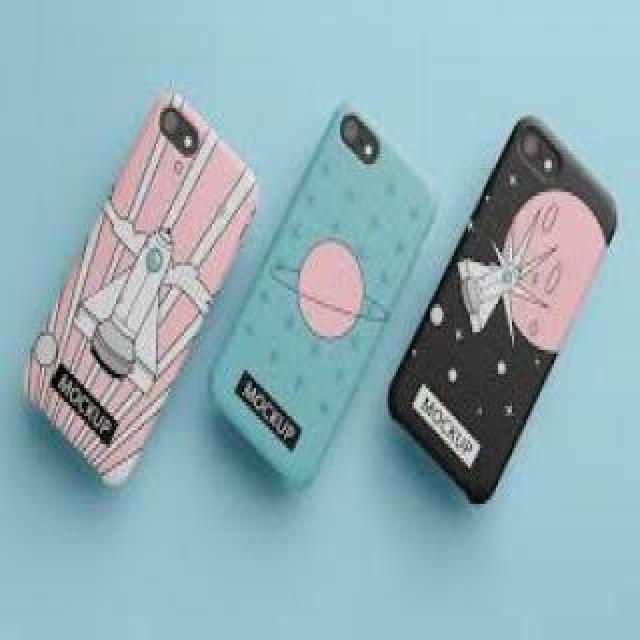smart phone: (23, 55, 220, 503), (255, 102, 435, 515), (425, 98, 597, 522)
